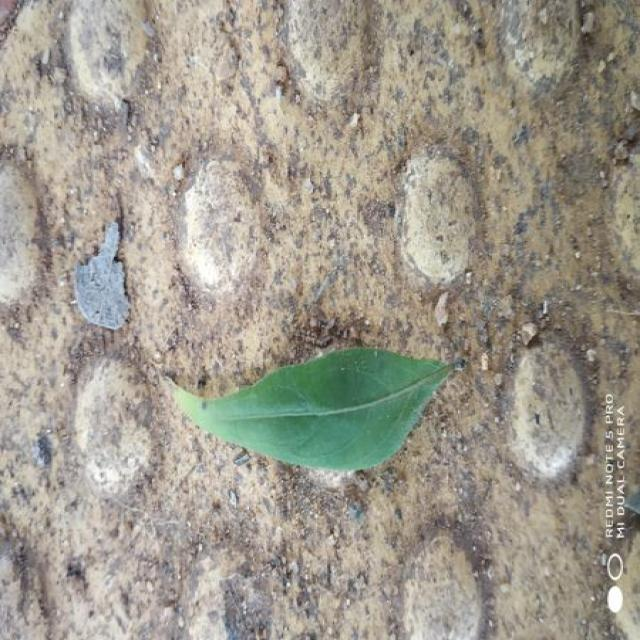Nelavembu: (170, 349, 453, 469)
